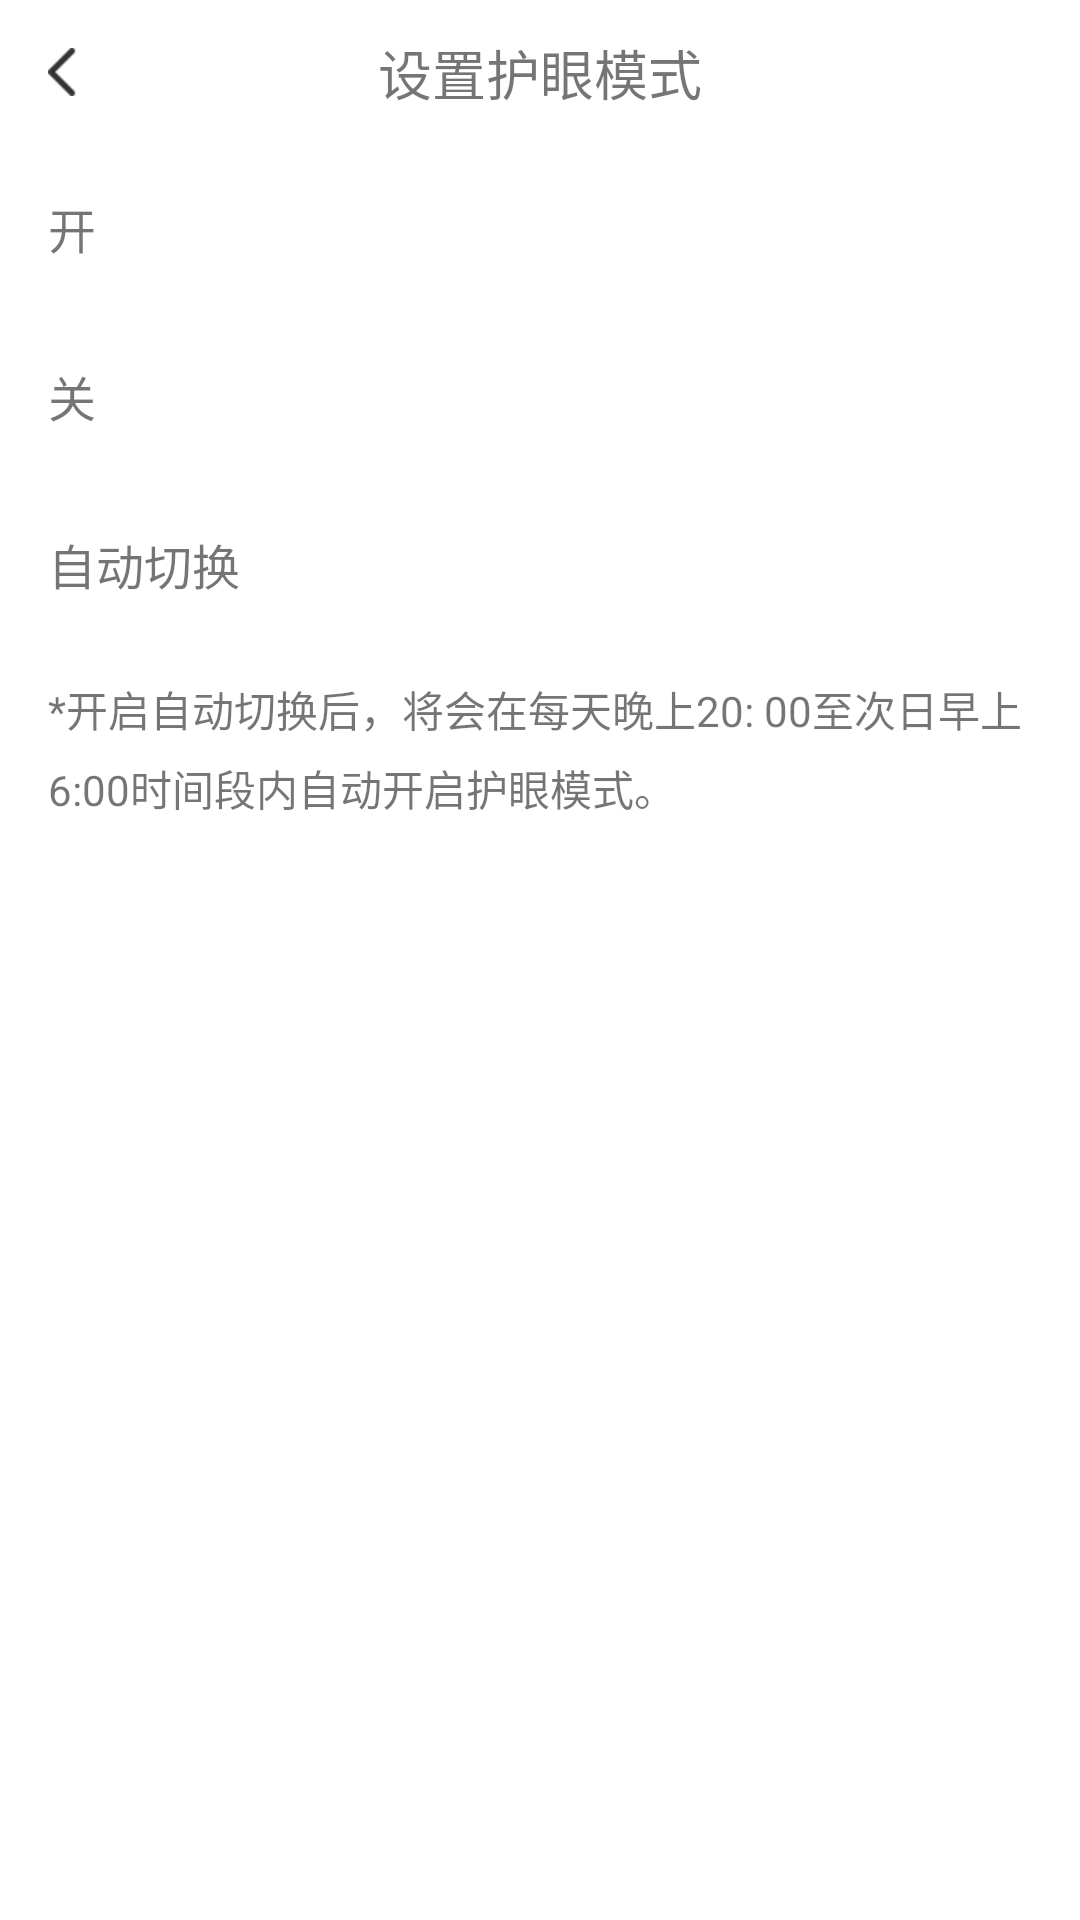

Icons on this 1080*1920 Android screen, each with the point to tap as point (x, y):
back: point (62, 72)
